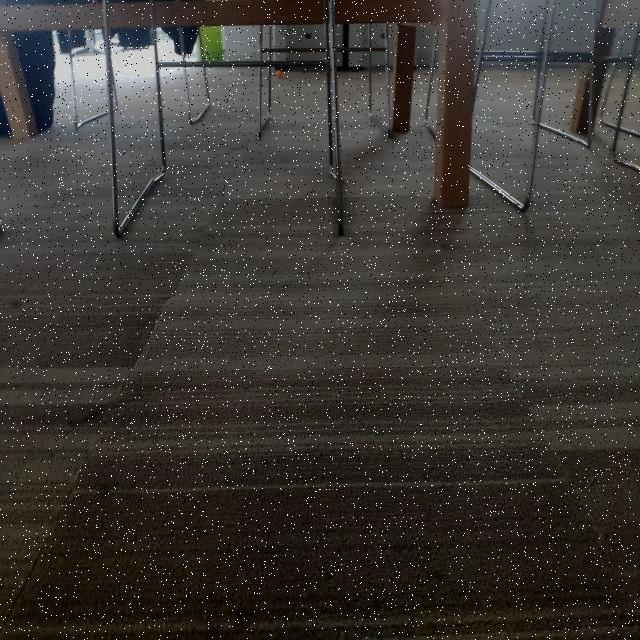ping-pong-ball: (275, 69, 283, 79)
